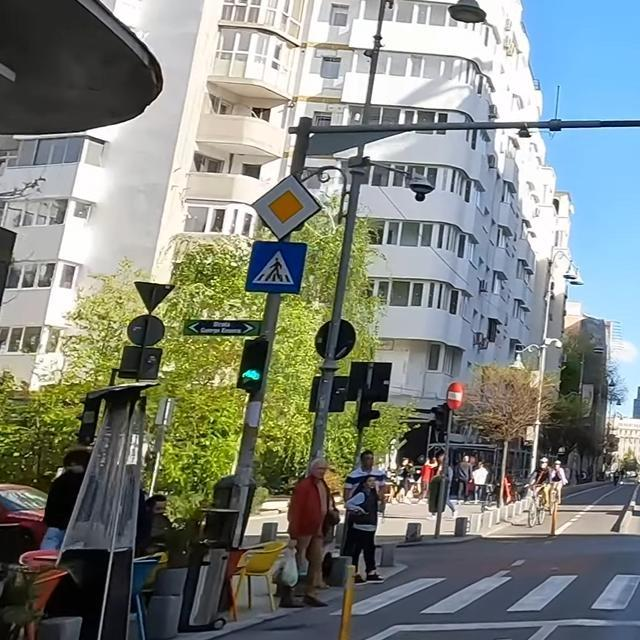info_crosswalk: (244, 240, 308, 292)
